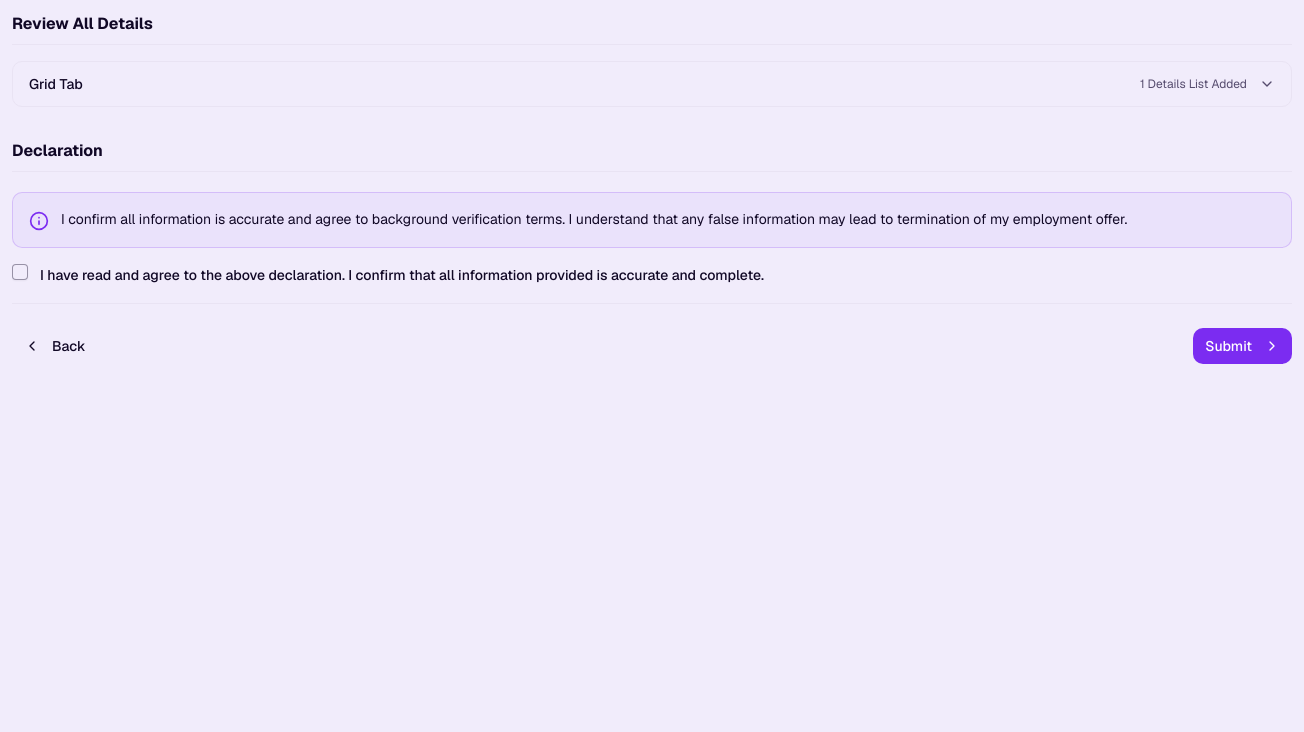
Test: ReviewStep › Extended Workflow: Automations & Dynamic Summaries › supports robust nested decomposition of child tabular field arrays in expansion
This screenshot has width=1304, height=732.
# Expand accordion
Click the button "Grid Tab 1 Details List Added".
click(56, 84)  # box 13,62 -> 1291,106
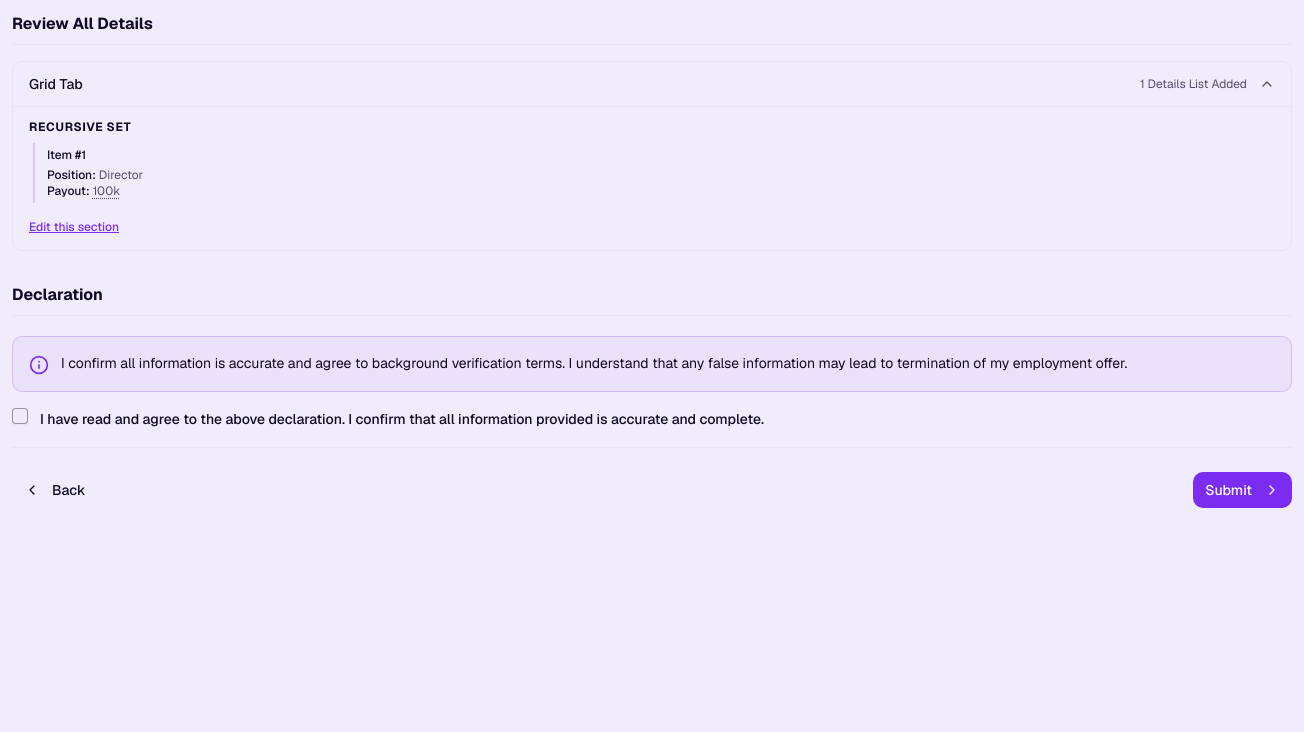
Check: the text "Item #1" is shown, box 47,147 -> 86,163
Check: the text "Position:" is shown, box 47,167 -> 96,183
Check: the text "Director" is shown, box 99,167 -> 143,183
